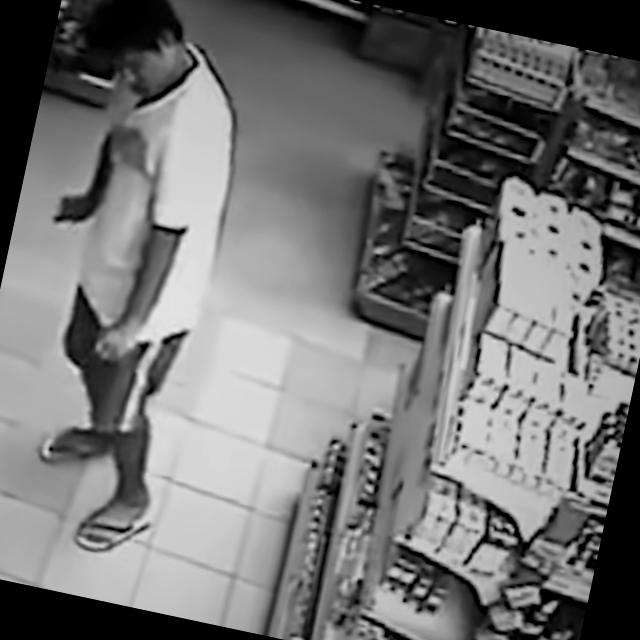person: (0, 0, 274, 563)
